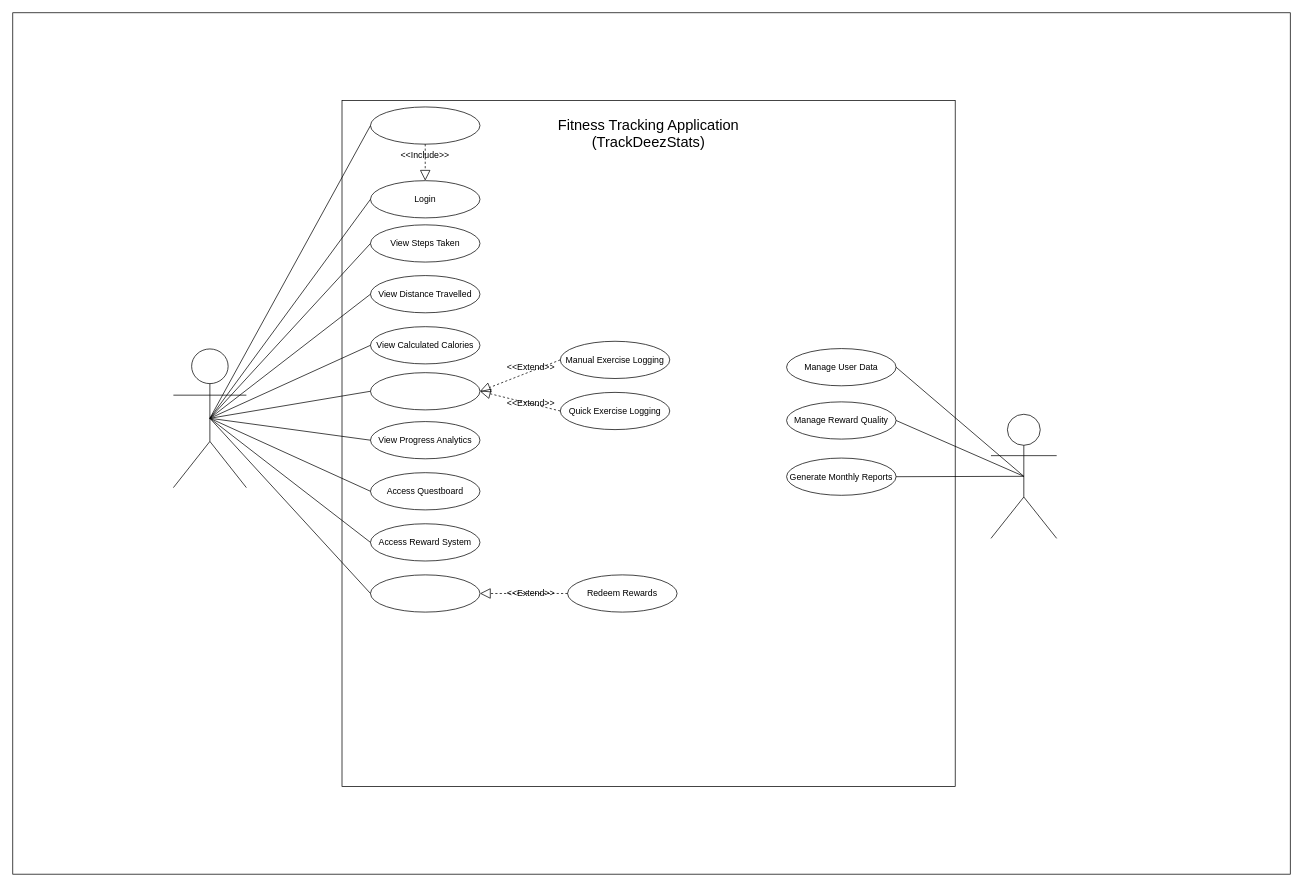
Image size: 1303x887. Some labels were removed from this diagram. Here are the shapes that lost their labels. From the top down, the box of each, then its label:
(370, 106, 480, 144): Register
(370, 372, 480, 410): Log Exercise Data
(173, 348, 246, 488): Application User
(990, 414, 1057, 538): Administrator
(370, 574, 480, 612): View Product Details
